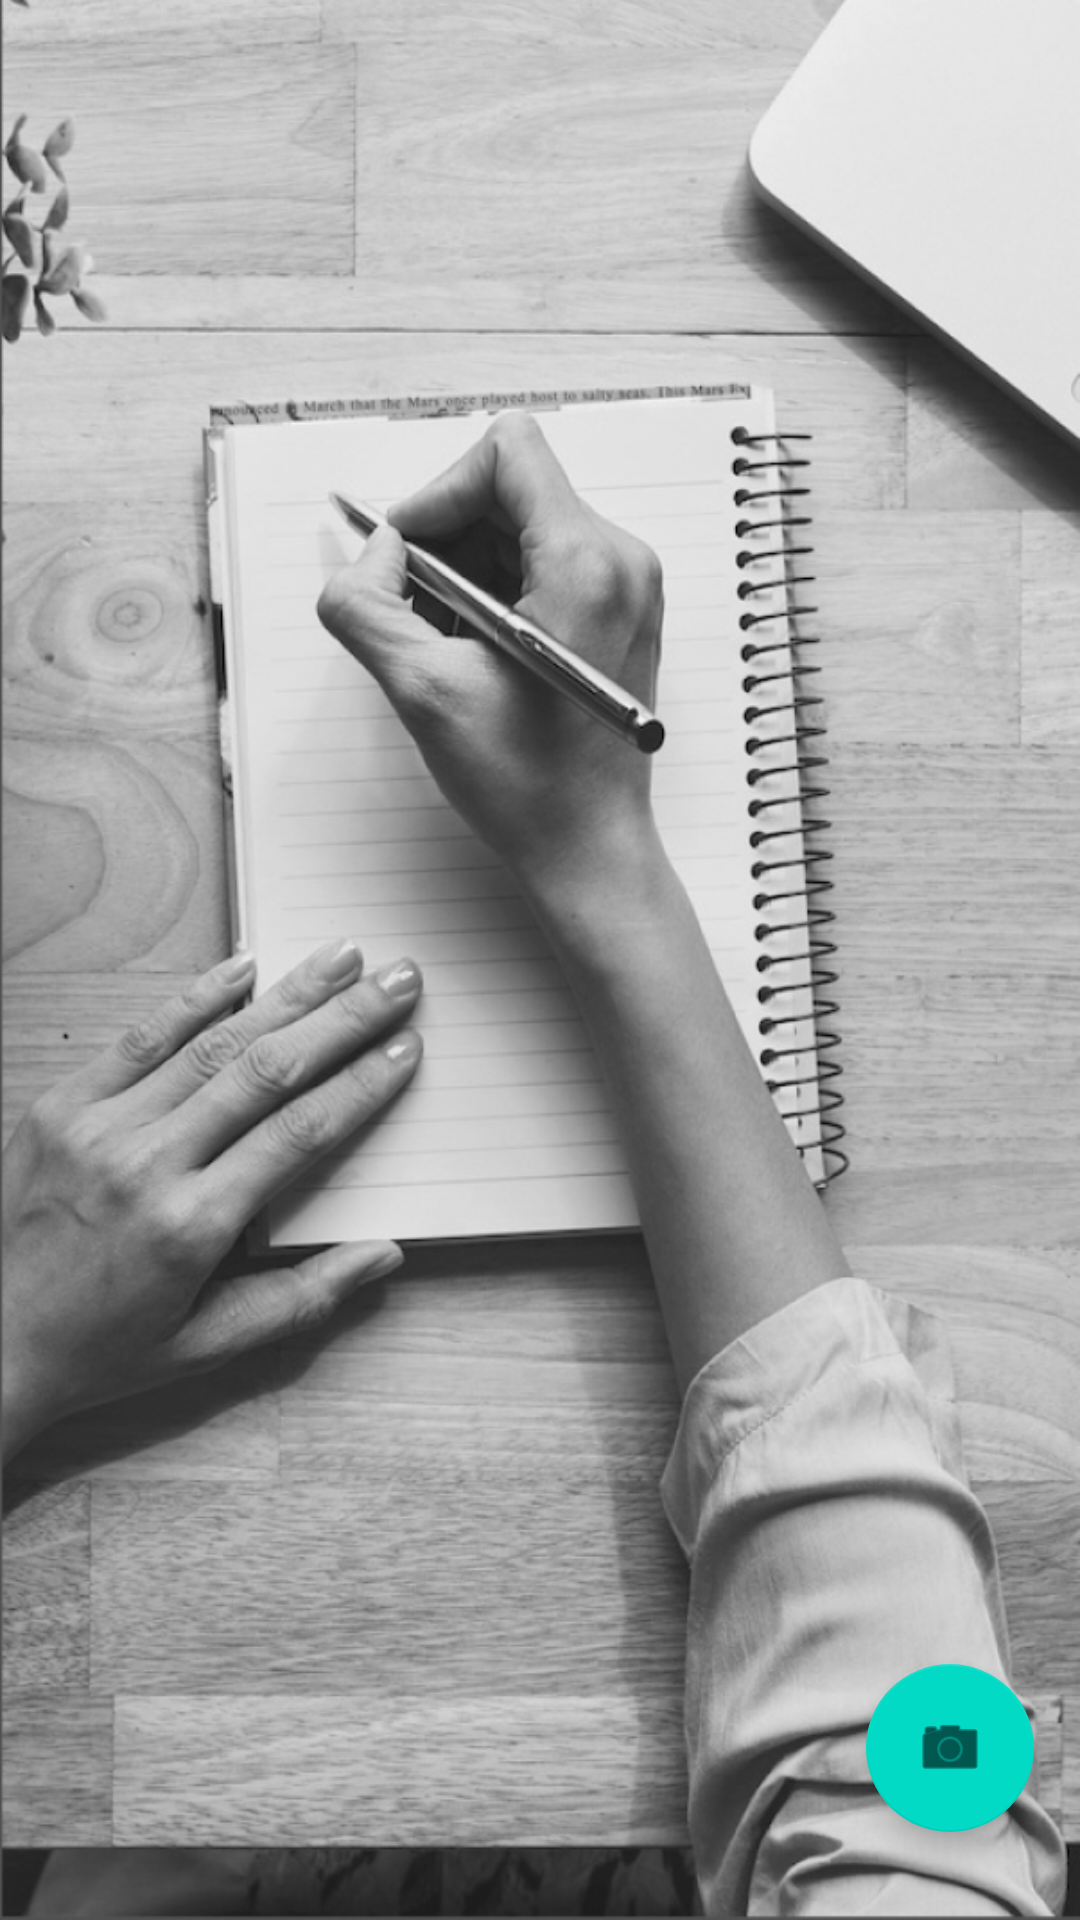

Screen size 1080w x 1920h. Icon name, then its center in pixels as [x,y]:
camera: [950,1748]
